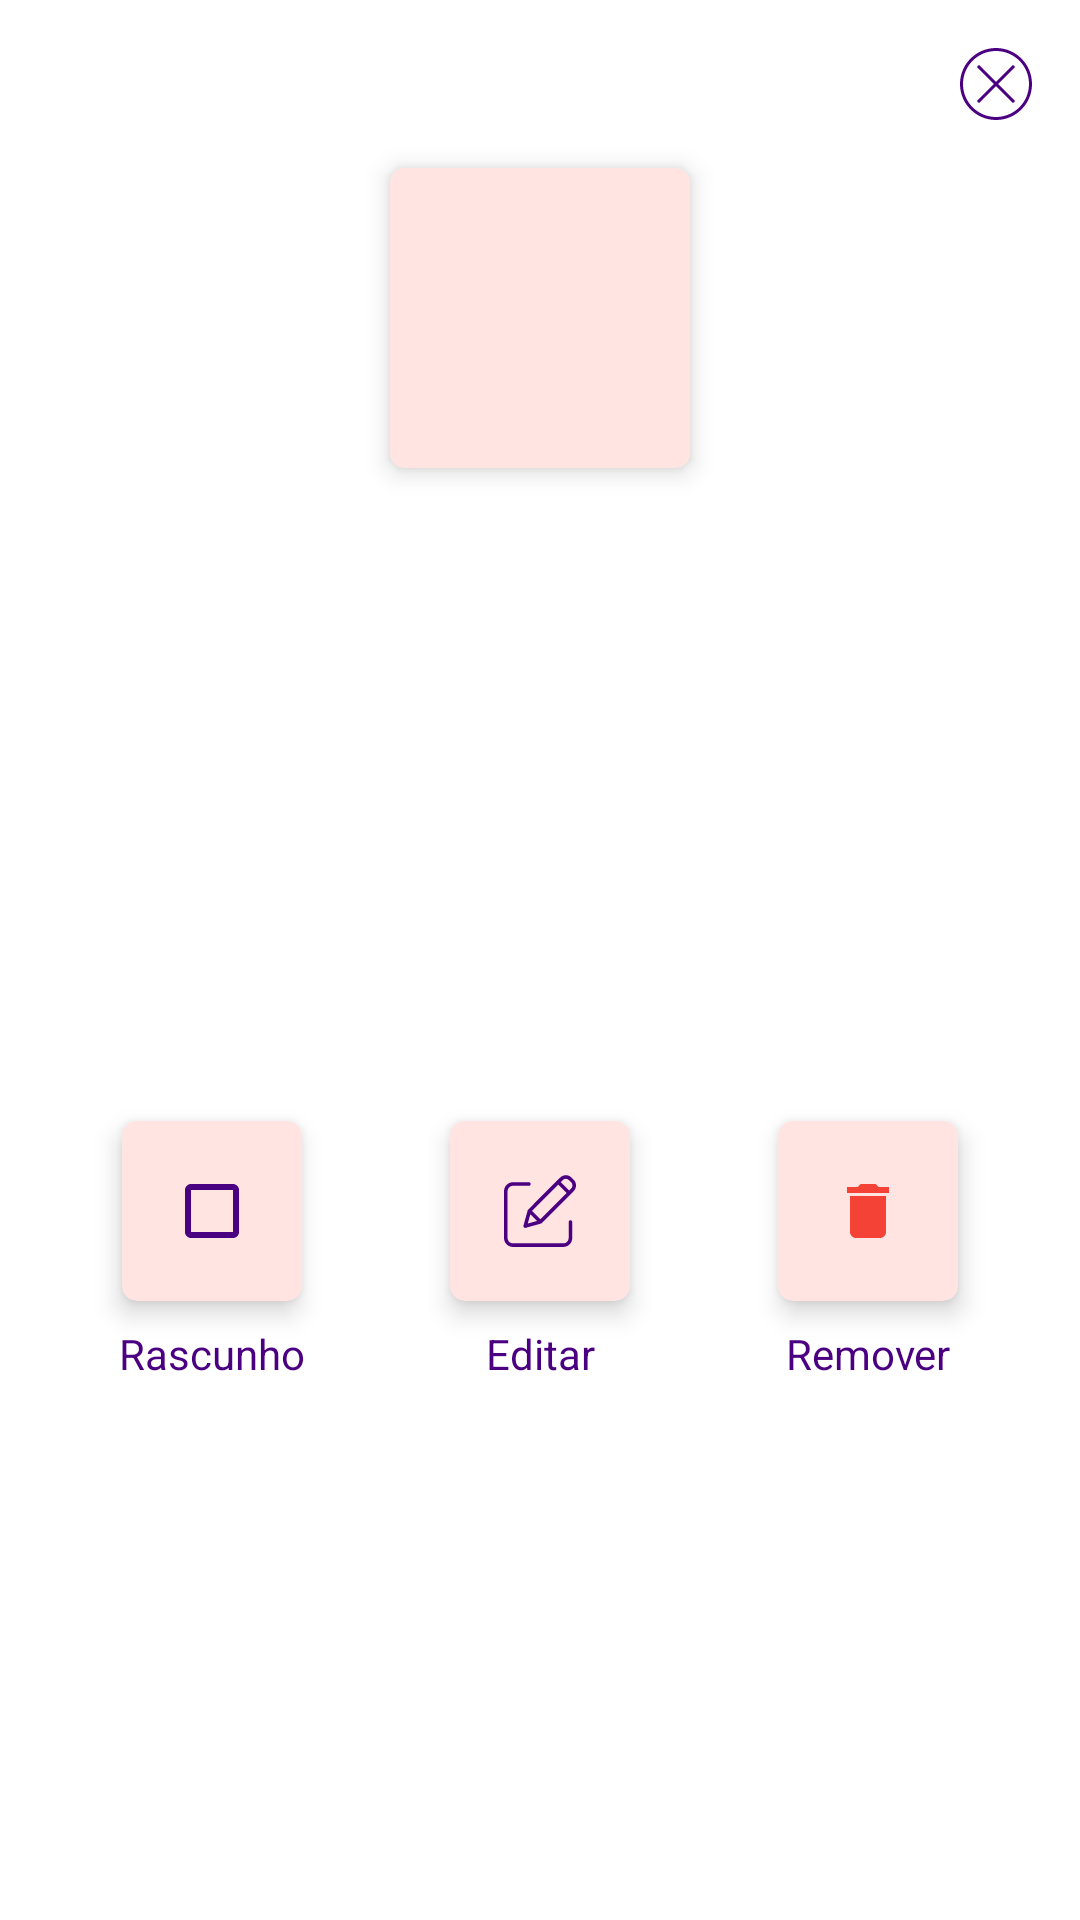

Screen size 1080×1920. Icon name, then its box in pixels as (x1, y1, x2, y2):
delete: (847, 1184, 889, 1238)
fechar: (960, 48, 1032, 120)
